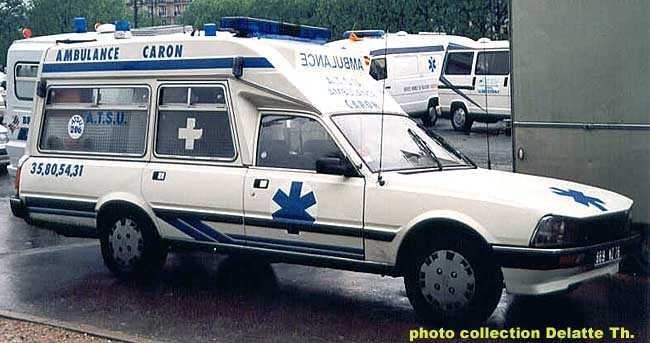Ambulance: (26, 11, 650, 327)
